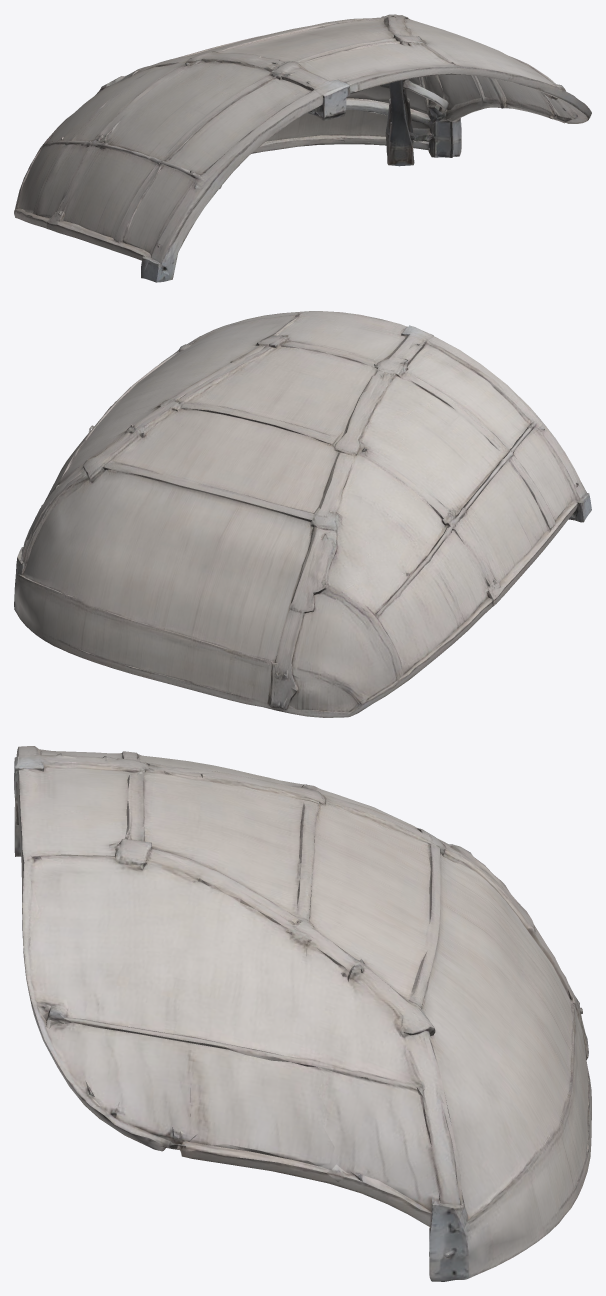
File: MAP-F-ROOF-01-lod0.glb
3 renders of one model, top to bottom at view 1: azimuth 30°, elevation 25°; view 2: azimuth 150°, elevation 25°; view 3: azimuth 270°, elevation 25°, orthographic. The views are drawn at different scales.
Visible parts, largest first — view 1: Mesh; view 2: Mesh; view 3: Mesh.
Part boxes in pixels (x1,y1,x2,y2): Mesh: [14, 14, 591, 282]; Mesh: [14, 311, 591, 717]; Mesh: [14, 746, 591, 1281].
Bounding box in the file's own units: 1.89 × 0.9296 × 1.43.
Materials: 1 (1 with a texture image).
